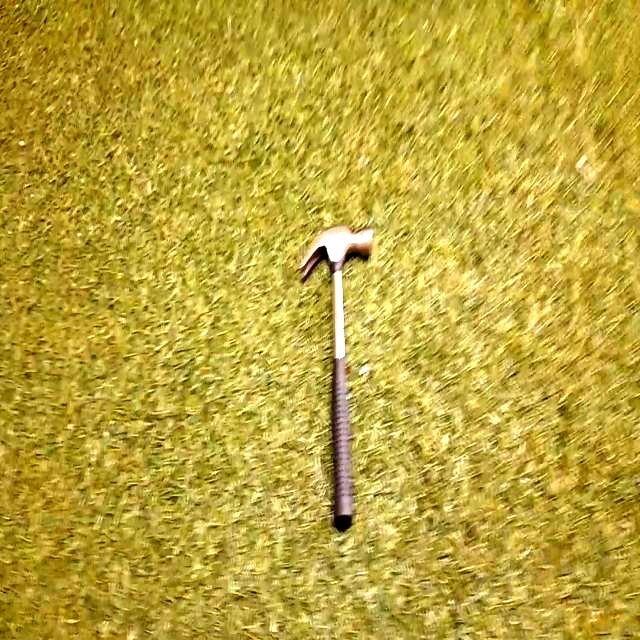hammer: (288, 224, 378, 532)
